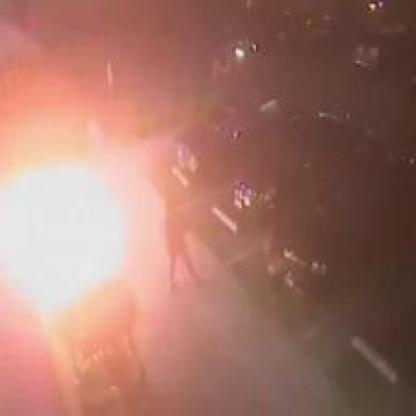fire: (138, 2, 214, 69)
